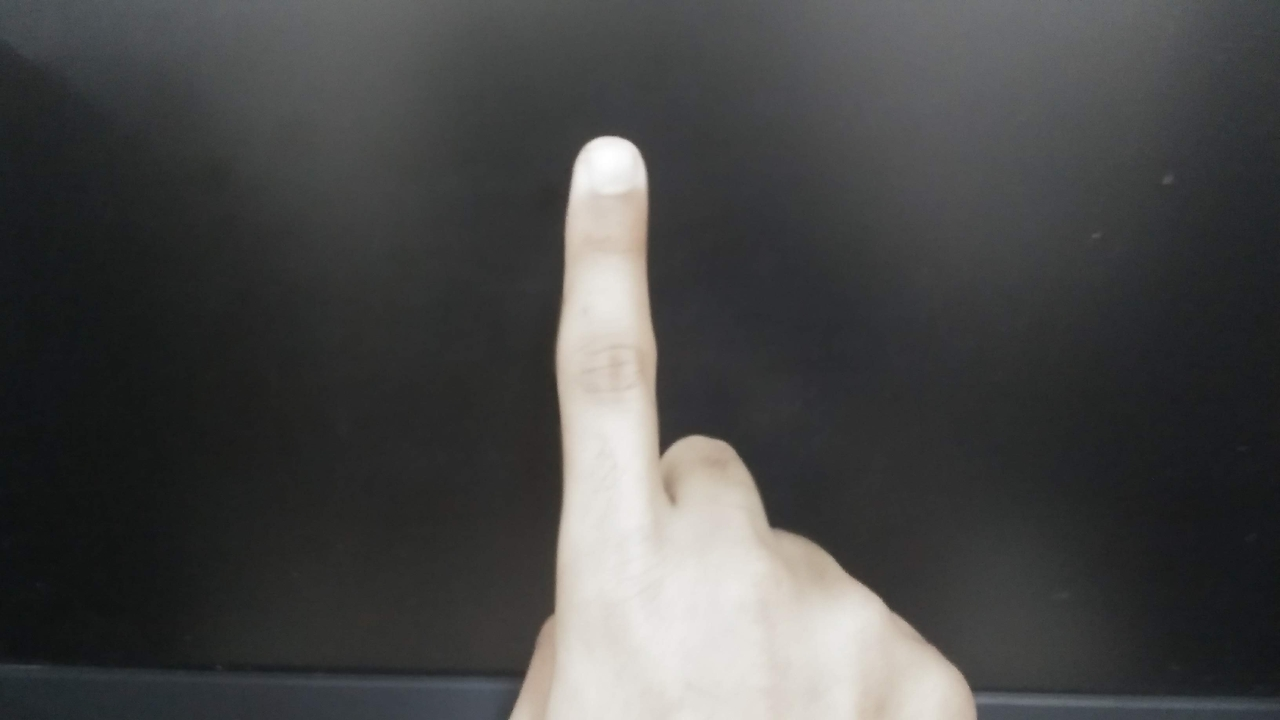fingertip: (558, 132, 658, 210)
